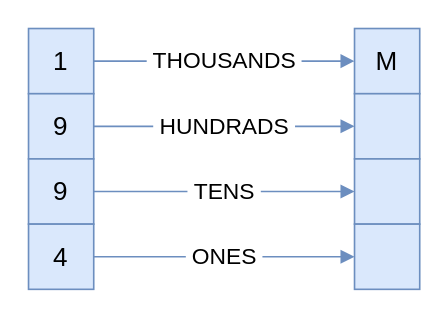
The diagram is 448 pixels wide and 318 high, and some of its shapes have lost their labels. Here are the shapes that lost their labels. From the top down, the centre of each, then its label:
At (x=386, y=125): "CM".
At (x=386, y=190): "XC".
At (x=386, y=255): "IV".
